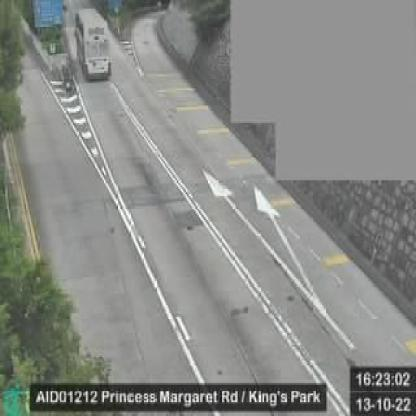Bus: (75, 7, 111, 79)
